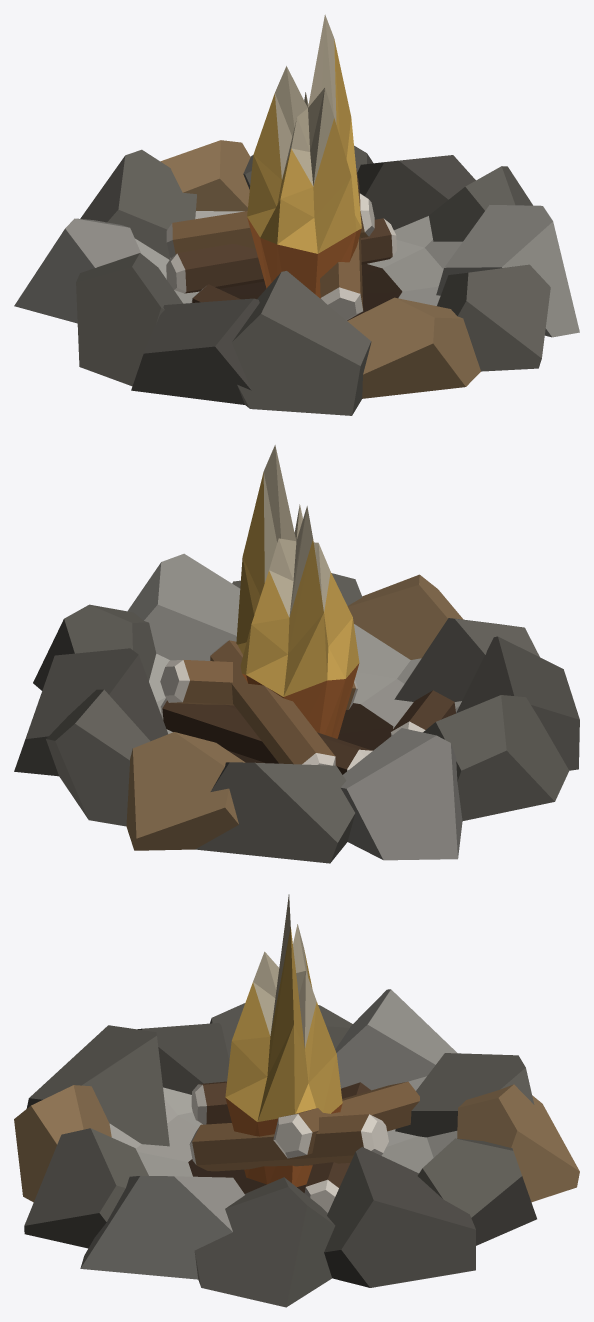
The model's file is stone-fire-pit-4136b0.glb.
3 views of the same model, one above another, from view 1: azimuth 30°, elevation 25°; view 2: azimuth 150°, elevation 25°; view 3: azimuth 270°, elevation 25° (orthographic). The views are drawn at different scales.
Visible parts, largest first — view 1: fire-pit, flame-mesh; view 2: fire-pit, flame-mesh; view 3: fire-pit, flame-mesh.
Boxes of the visible parts, <box> form: fire-pit: <box>14,140,579,415</box>; flame-mesh: <box>247,14,361,298</box>; fire-pit: <box>14,553,579,863</box>; flame-mesh: <box>236,445,359,738</box>; fire-pit: <box>14,989,579,1307</box>; flame-mesh: <box>225,894,342,1186</box>.
Size of the model in its own units: 1.21 by 0.674 by 1.16.
